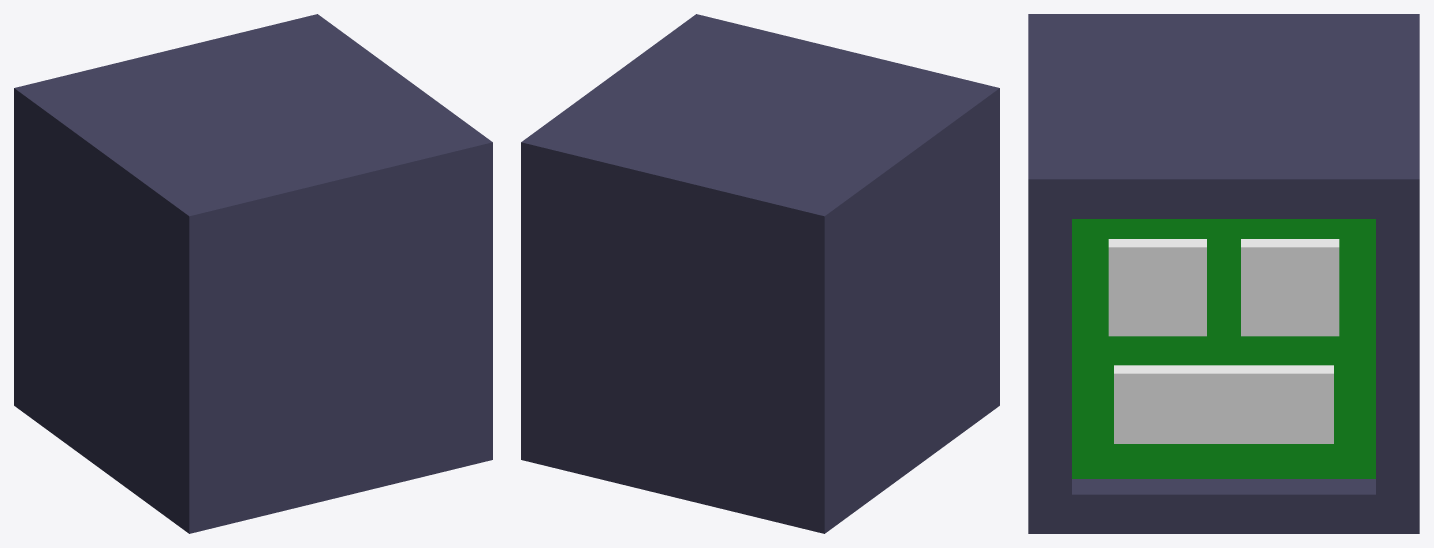
The model's file is Robobot.fbx.
3 views of the same model, side by side, from view 1: azimuth 30°, elevation 25°; view 2: azimuth 150°, elevation 25°; view 3: azimuth 270°, elevation 25° (orthographic). The views are drawn at different scales.
Parts seen in each view (by area): view 1: Cube; view 2: Cube; view 3: Cube, Cube.001, Cube.002.
Part boxes in pixels (x1,y1,x2,y2): Cube: (14,14,492,533); Cube: (521,14,999,533); Cube: (1028,14,1419,533); Cube.001: (1108,239,1339,336); Cube.002: (1114,365,1333,443).
Size of the model in its own units: 200 by 200 by 200.
